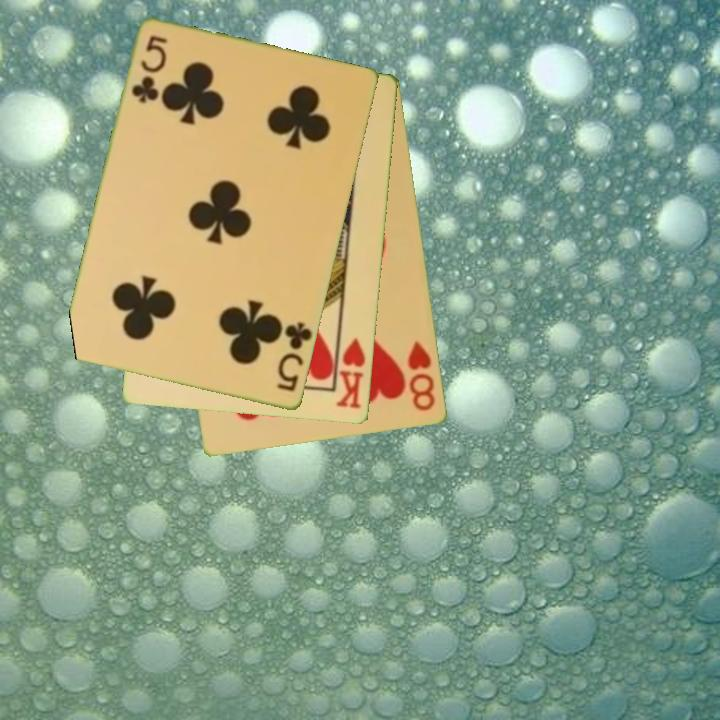5c: (128, 32, 171, 107), (273, 319, 315, 395)
8h: (404, 338, 438, 415)
Kh: (332, 328, 369, 412)
